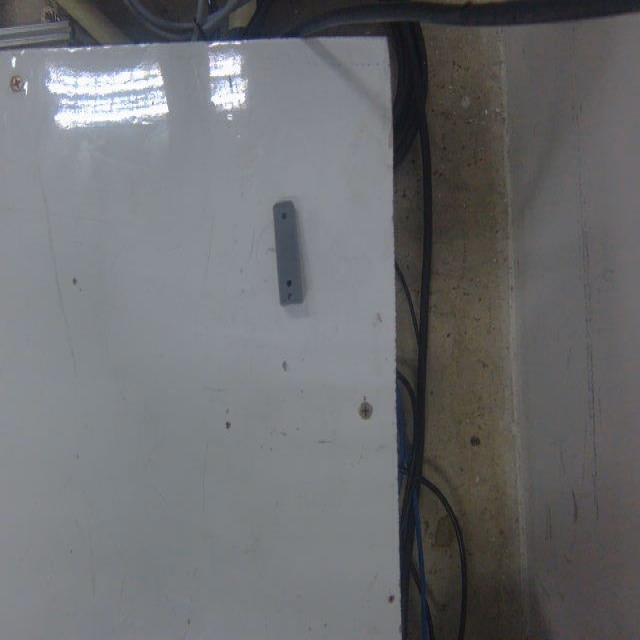grey: (272, 199, 307, 310)
head: (281, 212, 288, 220)
